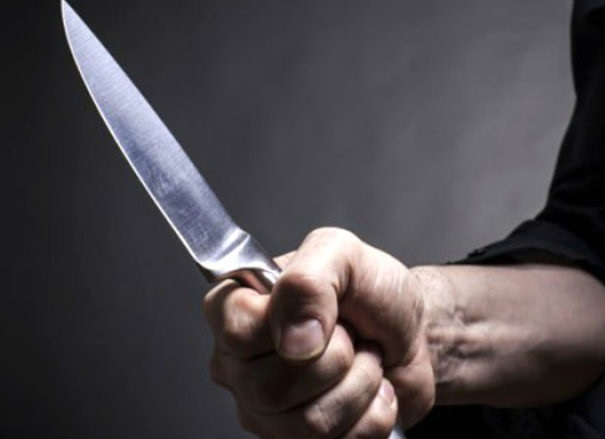knife: (47, 1, 363, 380)
